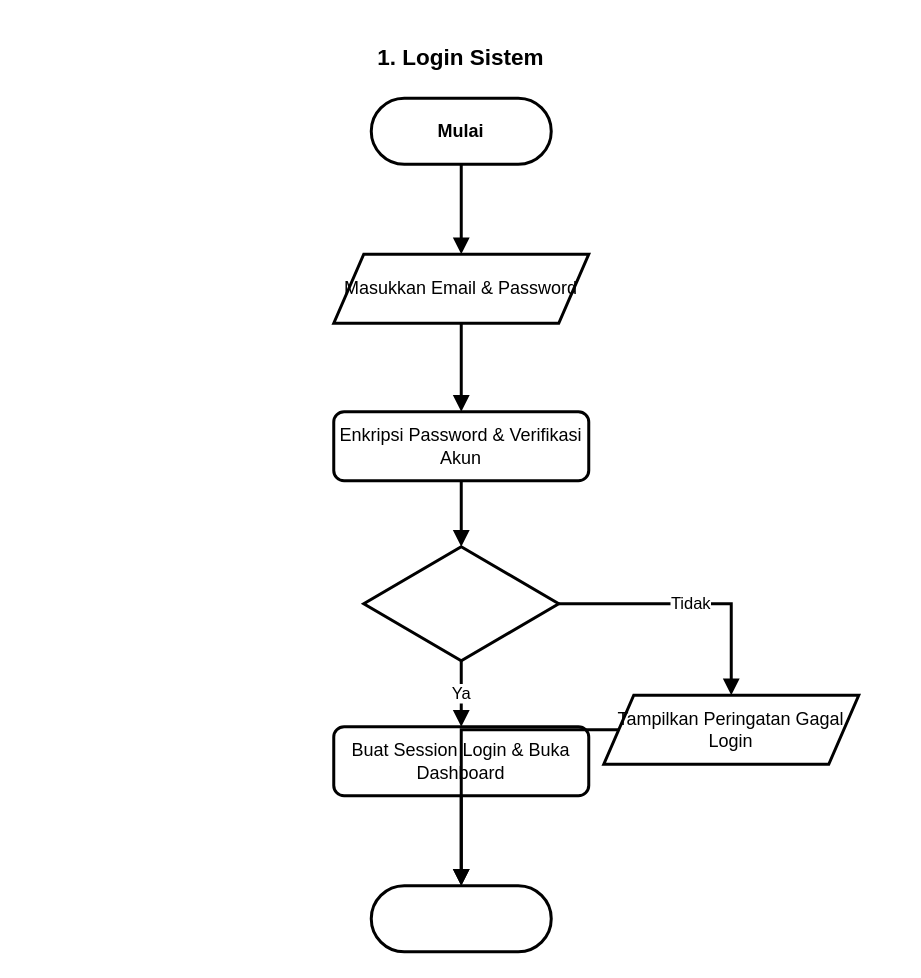
Some shapes in this 921 by 978 pixel diagram are drawn without their labels. Each missing label, with the centre of its shape:
"Cocok & Aktif?" goes at point 461,603.
"Selesai" goes at point 460,918.
